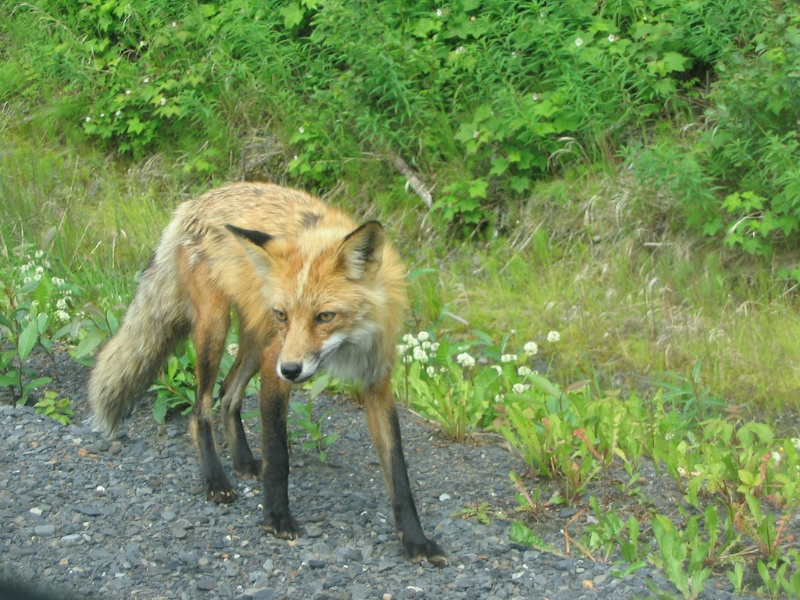fox: (79, 170, 450, 569)
